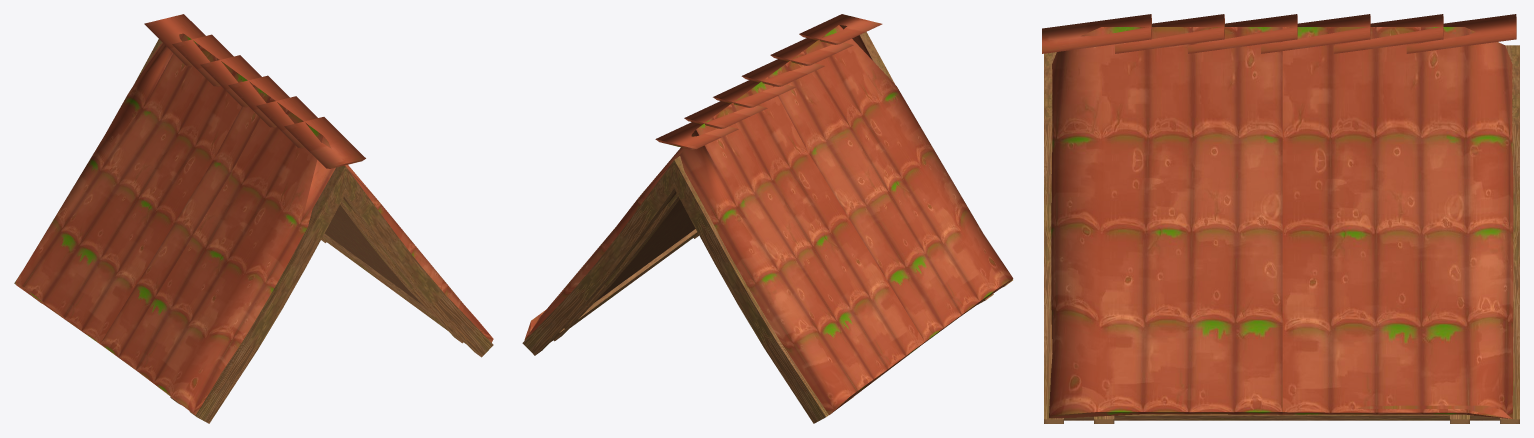
File: Roof_RoundTiles_4x4_Far.glb
3 views of the same model, side by side, from view 1: azimuth 30°, elevation 25°; view 2: azimuth 150°, elevation 25°; view 3: azimuth 270°, elevation 25° (orthographic). The views are drawn at different scales.
Visible parts, largest first — view 1: Roof_RoundTiles_4x4; view 2: Roof_RoundTiles_4x4; view 3: Roof_RoundTiles_4x4.
Boxes of the visible parts, bbox=[...] form: Roof_RoundTiles_4x4: bbox=[14, 14, 493, 423]; Roof_RoundTiles_4x4: bbox=[522, 14, 1013, 423]; Roof_RoundTiles_4x4: bbox=[1042, 14, 1519, 423].
Bounding box in the file's own units: 5.41 × 3.95 × 5.51.
Materials: 2 (2 with a texture image).
